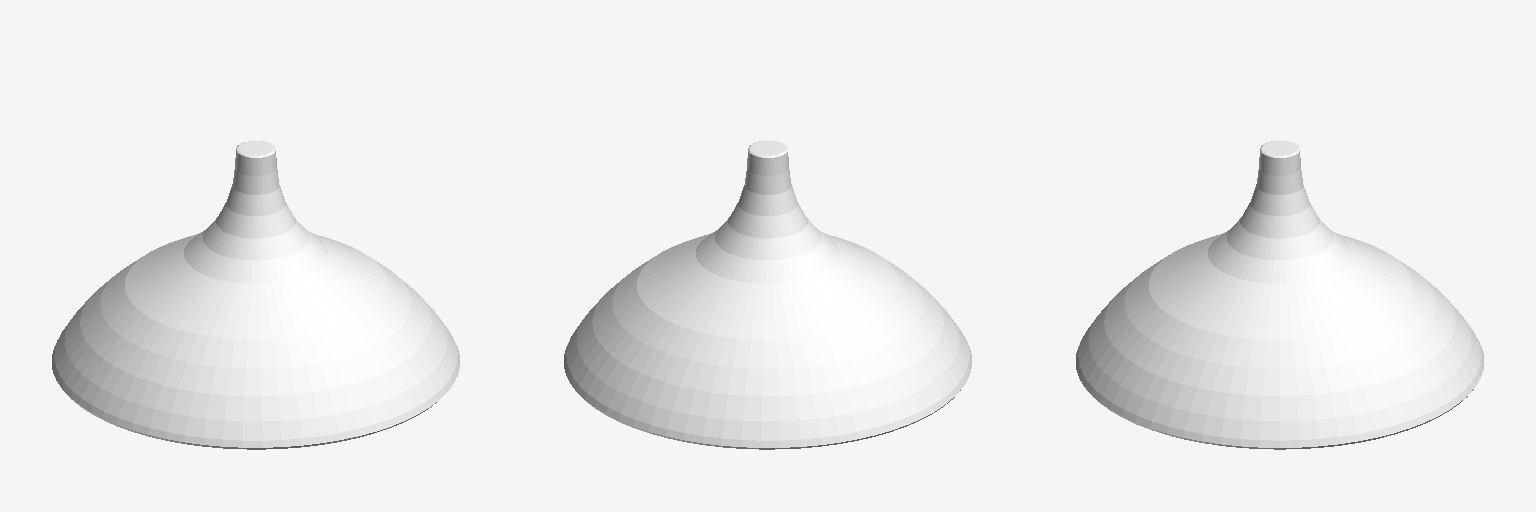
The model's file is flip.obj.
3 renders of one model, left to right at view 1: azimuth 30°, elevation 25°; view 2: azimuth 150°, elevation 25°; view 3: azimuth 270°, elevation 25°, orthographic.
Visible parts, largest first — view 1: glassCover; view 2: glassCover; view 3: glassCover.
Part boxes in pixels (x1,y1,x2,y2): glassCover: (52,141,459,449); glassCover: (564,141,971,449); glassCover: (1076,141,1483,449).
Size of the model in its own units: 3.56 by 2.07 by 3.56.